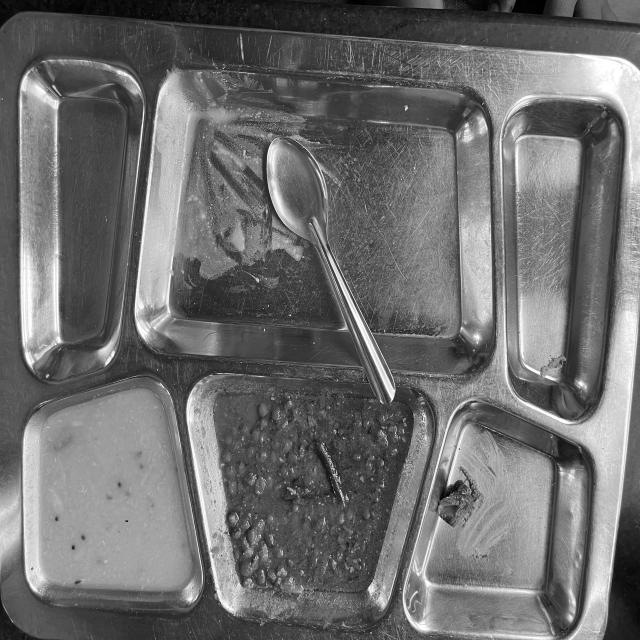20-Food-Left: (14, 35, 616, 620)
